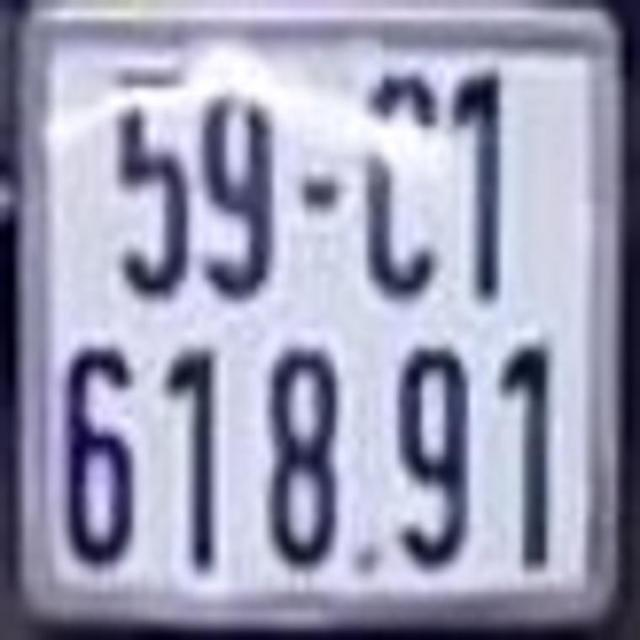1: (453, 64, 499, 298), (166, 346, 214, 569), (502, 340, 548, 562)
5: (116, 60, 187, 295)
6: (64, 344, 140, 562)
8: (267, 344, 340, 575)
9: (204, 63, 279, 296), (396, 345, 471, 570)
C: (362, 68, 446, 302)
